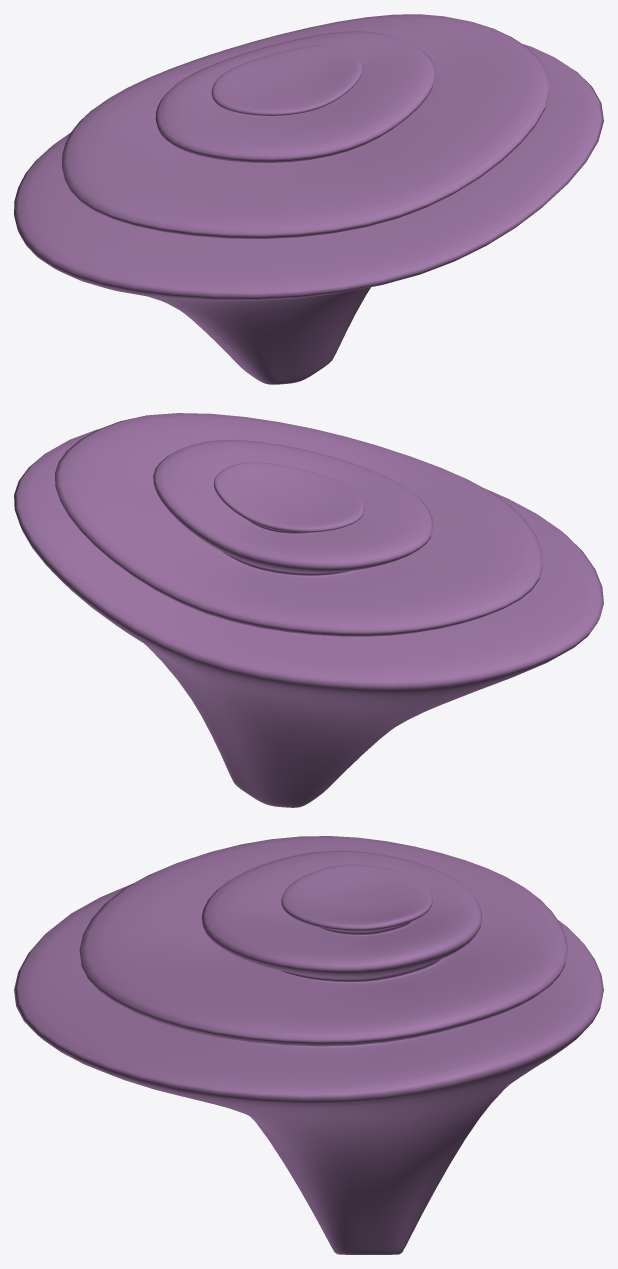
The model's file is Coral_Table2.fbx.
3 renders of one model, top to bottom at view 1: azimuth 30°, elevation 25°; view 2: azimuth 150°, elevation 25°; view 3: azimuth 270°, elevation 25°, orthographic. The views are drawn at different scales.
Parts seen in each view (by area): view 1: CoralT1; view 2: CoralT1; view 3: CoralT1.
Boxes of the visible parts, box(x1,y1,x2,y2) form: CoralT1: box(14, 14, 603, 384); CoralT1: box(14, 413, 603, 807); CoralT1: box(14, 836, 603, 1254).
Bounding box in the file's own units: 10.83 × 5.9 × 8.75.
